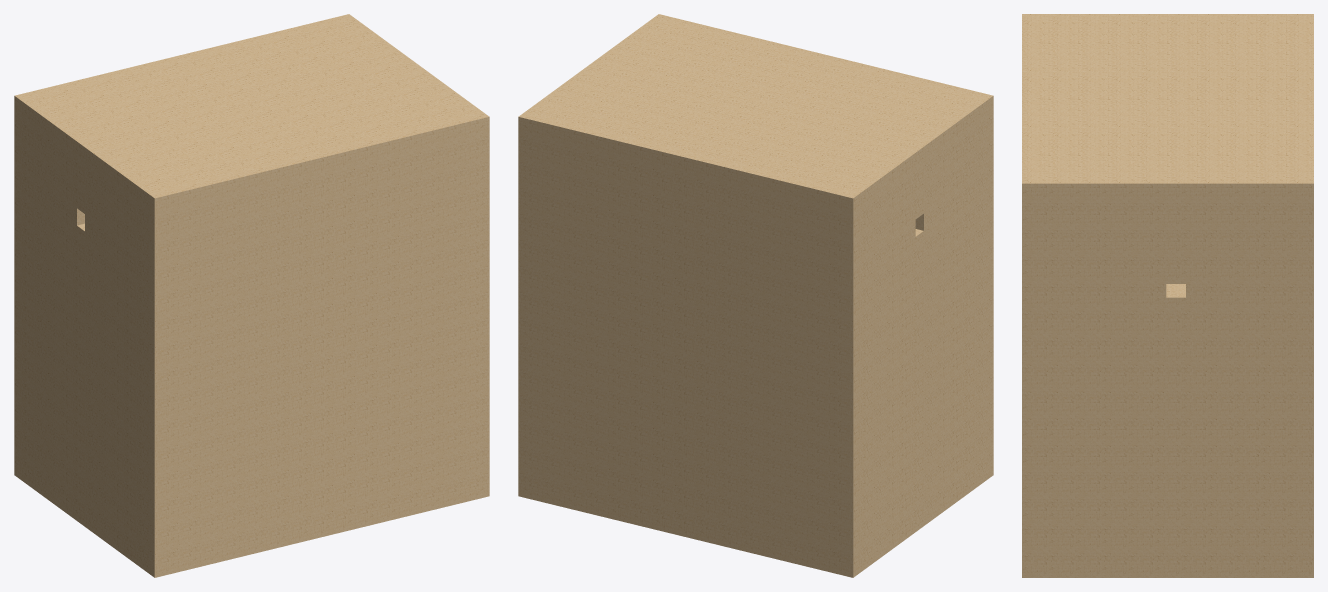
Rendered from moving_walls_room_01.fbx.
3 views of the same model, side by side, from view 1: azimuth 30°, elevation 25°; view 2: azimuth 150°, elevation 25°; view 3: azimuth 270°, elevation 25° (orthographic). The views are drawn at different scales.
Visible parts, largest first — view 1: Cube.009; view 2: Cube.009; view 3: Cube.009.
Boxes of the visible parts, <box> form: Cube.009: <box>14,14,489,577</box>; Cube.009: <box>518,14,993,577</box>; Cube.009: <box>1022,14,1313,577</box>.
Bounding box in the file's own units: 21560 × 23352 × 15662.
